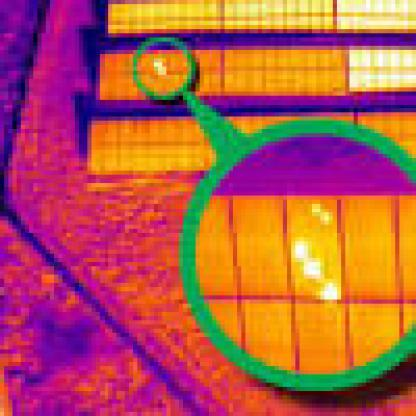Defects: (291, 241, 312, 262), (320, 283, 341, 304), (308, 266, 320, 278)
